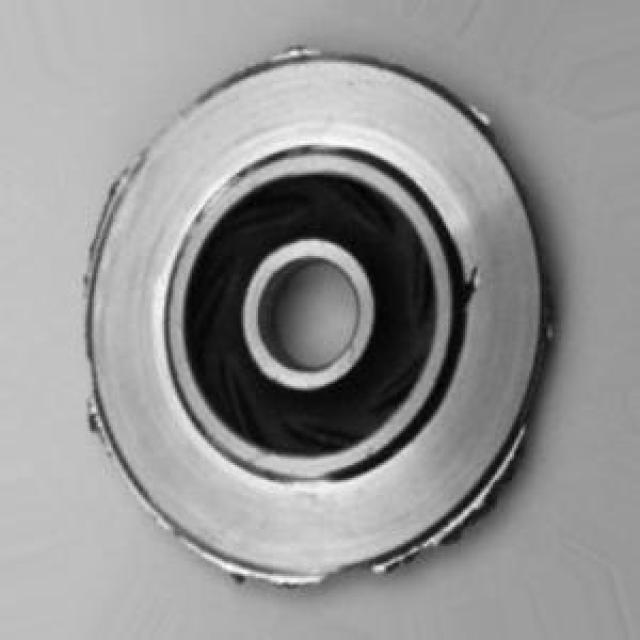Defect: (453, 255, 492, 312)
